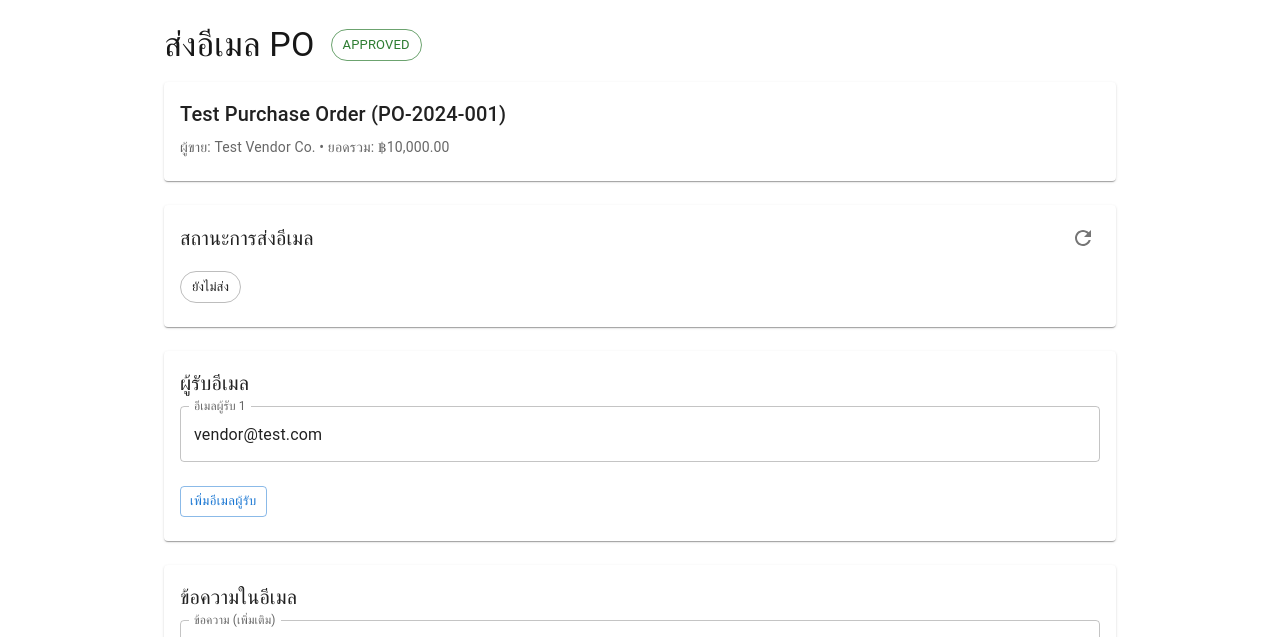
POEmailForm › Form Fields › allows adding additional email recipients
Expected: the field showing "vendor@test.com" is shown, [180,406,1100,462]
Click the button "เพิ่มอีเมลผู้รับ".
click(223, 501)  # box [180,486,267,517]
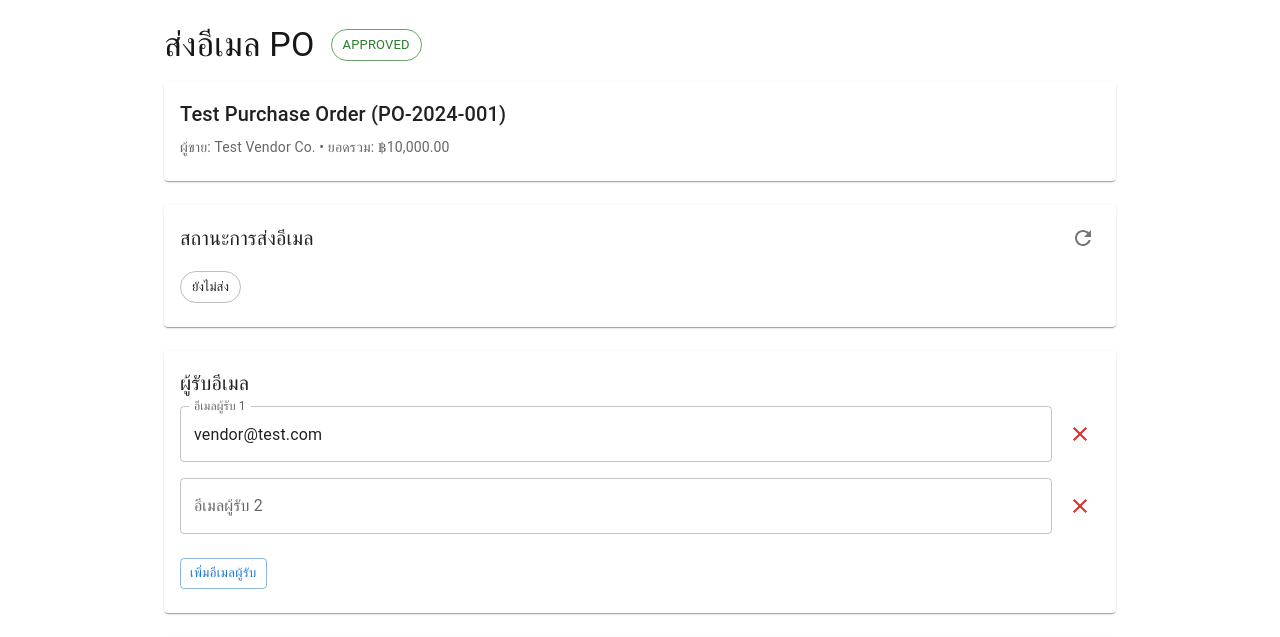
Now the field labelled "อีเมลผู้รับ 2" is shown, box [180,478,1052,534]
